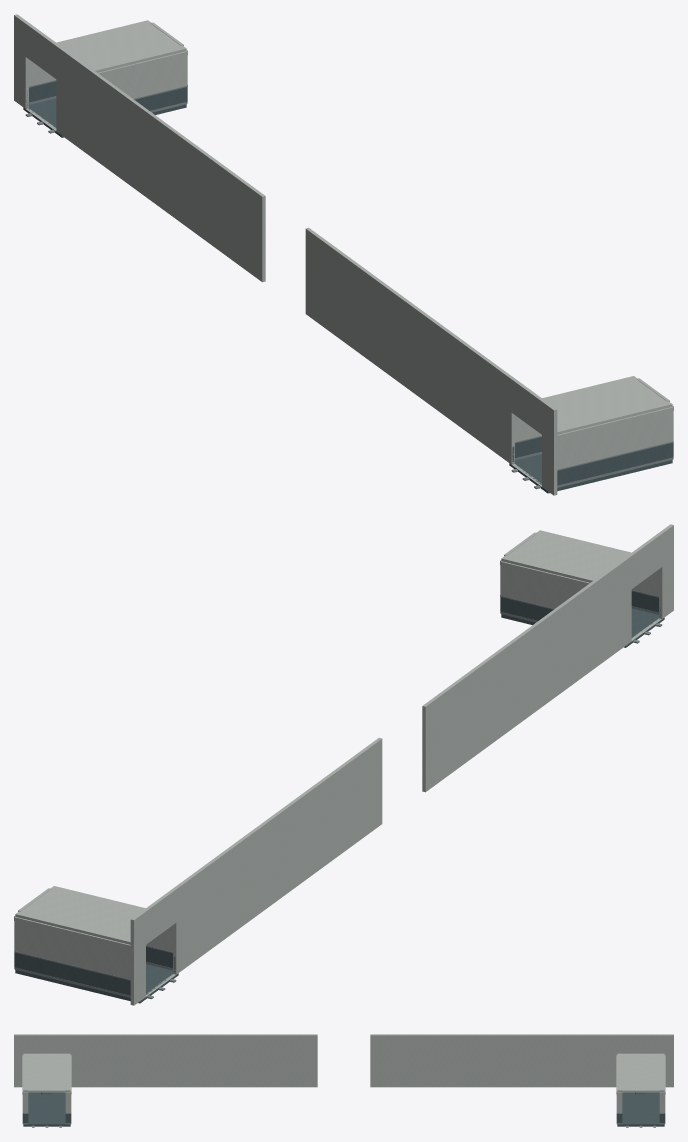
Rendered from SYNTHESIS_EXTERNAL_LINKS_r001.glb.
The picture shows the model from 3 angles, top to bottom: view 1: azimuth 30°, elevation 25°; view 2: azimuth 150°, elevation 25°; view 3: azimuth 270°, elevation 25°; orthographic projection. The views are drawn at different scales.
Parts seen in each view (by area): view 1: G8S_BATCH_0187_D01_directory_05_SYNTHESIS_EXTERNAL_RECEIVING, G8S_BATCH_0185_D01_directory_05_SYNTHESIS_EXTERNAL_RECEIVING, SXR_BATCH_002, SXR_BATCH_000, SXR_BATCH_003; view 2: G8S_BATCH_0185_D01_directory_05_SYNTHESIS_EXTERNAL_RECEIVING, G8S_BATCH_0187_D01_directory_05_SYNTHESIS_EXTERNAL_RECEIVING, SXR_BATCH_002, SXR_BATCH_000, SXR_BATCH_003; view 3: G8S_BATCH_0185_D01_directory_05_SYNTHESIS_EXTERNAL_RECEIVING, G8S_BATCH_0187_D01_directory_05_SYNTHESIS_EXTERNAL_RECEIVING, SXR_BATCH_002, SXR_BATCH_000.
Boxes of the visible parts, x1,y1,x2,y2 form: G8S_BATCH_0187_D01_directory_05_SYNTHESIS_EXTERNAL_RECEIVING: (305,227,557,495); G8S_BATCH_0185_D01_directory_05_SYNTHESIS_EXTERNAL_RECEIVING: (14,14,265,282); SXR_BATCH_002: (26,20,673,469); SXR_BATCH_000: (23,81,673,493); SXR_BATCH_003: (25,80,673,489); G8S_BATCH_0185_D01_directory_05_SYNTHESIS_EXTERNAL_RECEIVING: (130,737,382,1005); G8S_BATCH_0187_D01_directory_05_SYNTHESIS_EXTERNAL_RECEIVING: (422,524,673,792); SXR_BATCH_002: (14,530,661,979); SXR_BATCH_000: (14,591,664,1003); SXR_BATCH_003: (14,590,662,999); G8S_BATCH_0185_D01_directory_05_SYNTHESIS_EXTERNAL_RECEIVING: (370,1034,673,1087); G8S_BATCH_0187_D01_directory_05_SYNTHESIS_EXTERNAL_RECEIVING: (14,1034,317,1087); SXR_BATCH_002: (22,1053,665,1113); SXR_BATCH_000: (22,1092,665,1126).
Bounding box in the file's own units: 8.6 × 5.48 × 60.
6 materials, 5 textured.
